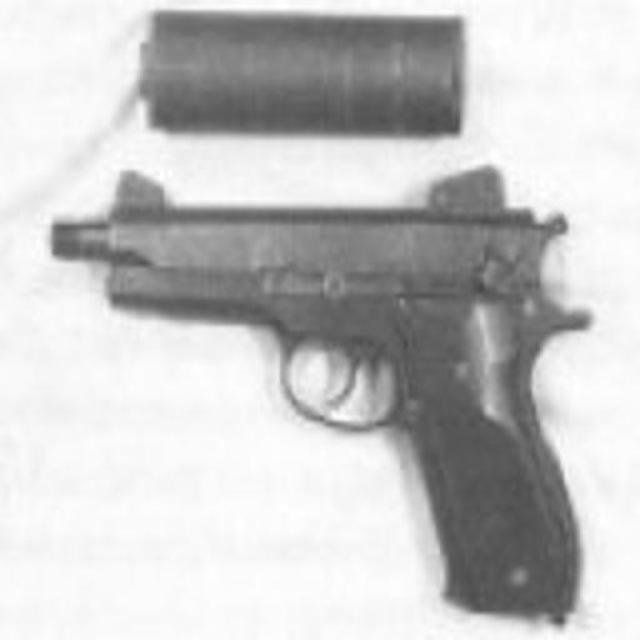pistol: (44, 154, 600, 640)
